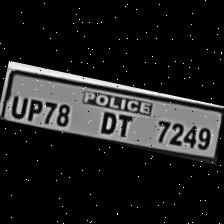2: (165, 118, 186, 146)
4: (180, 118, 197, 146)
7: (148, 114, 172, 143), (38, 98, 57, 126)
8: (51, 100, 75, 126)
9: (192, 122, 212, 148)
D: (93, 106, 121, 134)
P: (22, 94, 46, 121)
T: (113, 110, 138, 139)
U: (6, 91, 30, 119)
